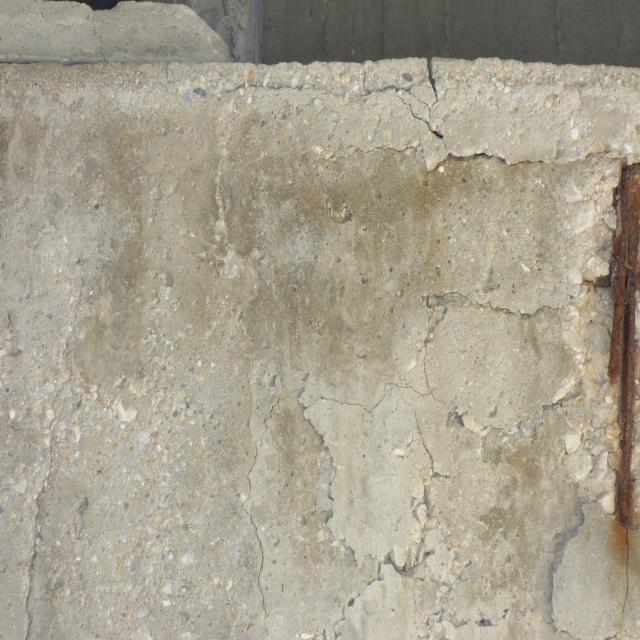corrosion: (596, 152, 640, 599)
